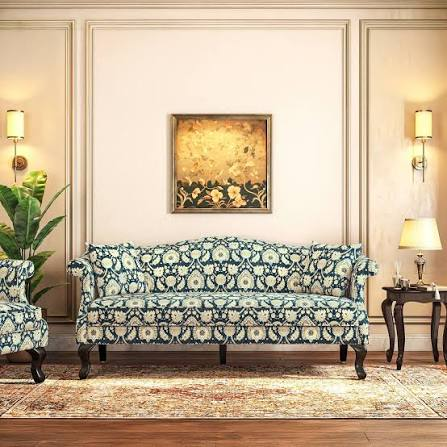3seatersofa: (69, 237, 377, 378)
backrest: (140, 237, 309, 292)
base: (85, 324, 367, 342)
leftarmrest: (351, 255, 377, 300)
leg: (79, 344, 94, 379), (351, 345, 366, 379), (219, 344, 226, 364), (98, 345, 106, 361), (340, 345, 347, 361)
pillow: (88, 244, 147, 296), (304, 246, 359, 295)
rightarmrest: (68, 254, 94, 340)
seat: (88, 293, 365, 325)
